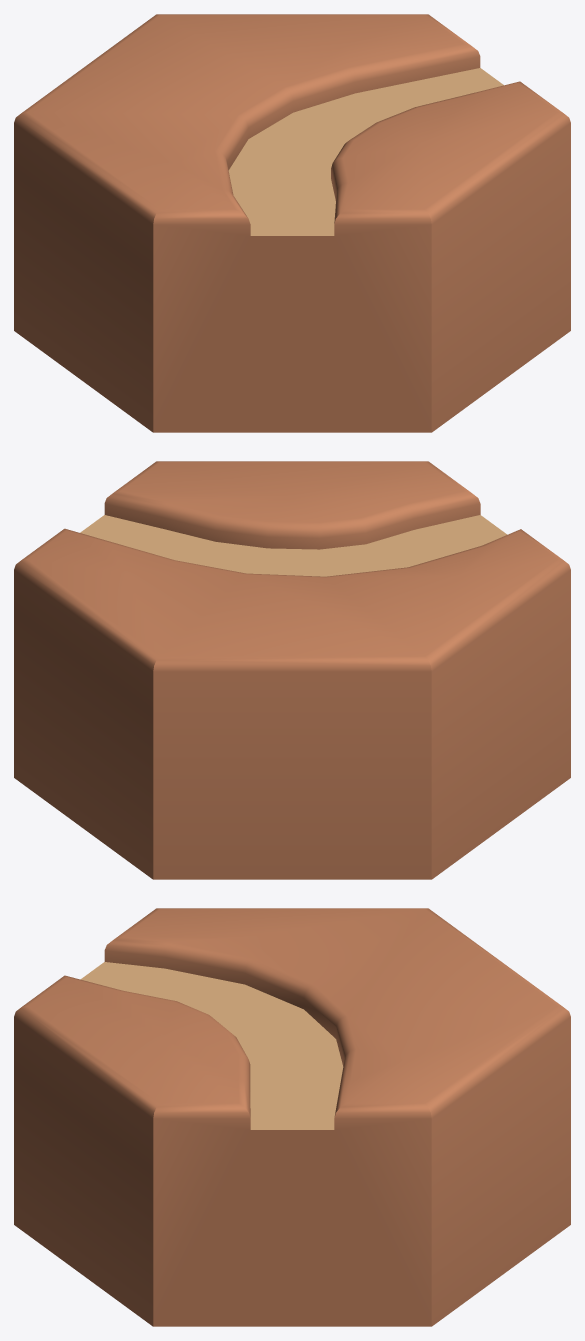
File: kaykit-hex-rock-roadd.glb
3 views of the same model, one above another, from view 1: azimuth 30°, elevation 25°; view 2: azimuth 150°, elevation 25°; view 3: azimuth 270°, elevation 25° (orthographic).
Visible parts, largest first — view 1: hex_rock_roadD; view 2: hex_rock_roadD; view 3: hex_rock_roadD.
Boxes of the visible parts, bbox=[...] form: hex_rock_roadD: bbox=[14, 14, 570, 432]; hex_rock_roadD: bbox=[14, 461, 570, 879]; hex_rock_roadD: bbox=[14, 908, 570, 1326].
Bounding box in the file's own units: 2 × 1 × 2.31.
